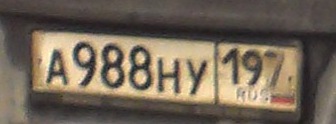character: (126, 43, 154, 92), (71, 40, 98, 87), (100, 44, 126, 91), (43, 47, 70, 88), (263, 46, 287, 89), (156, 54, 181, 94), (185, 56, 209, 96), (241, 47, 263, 89), (220, 48, 241, 89)
